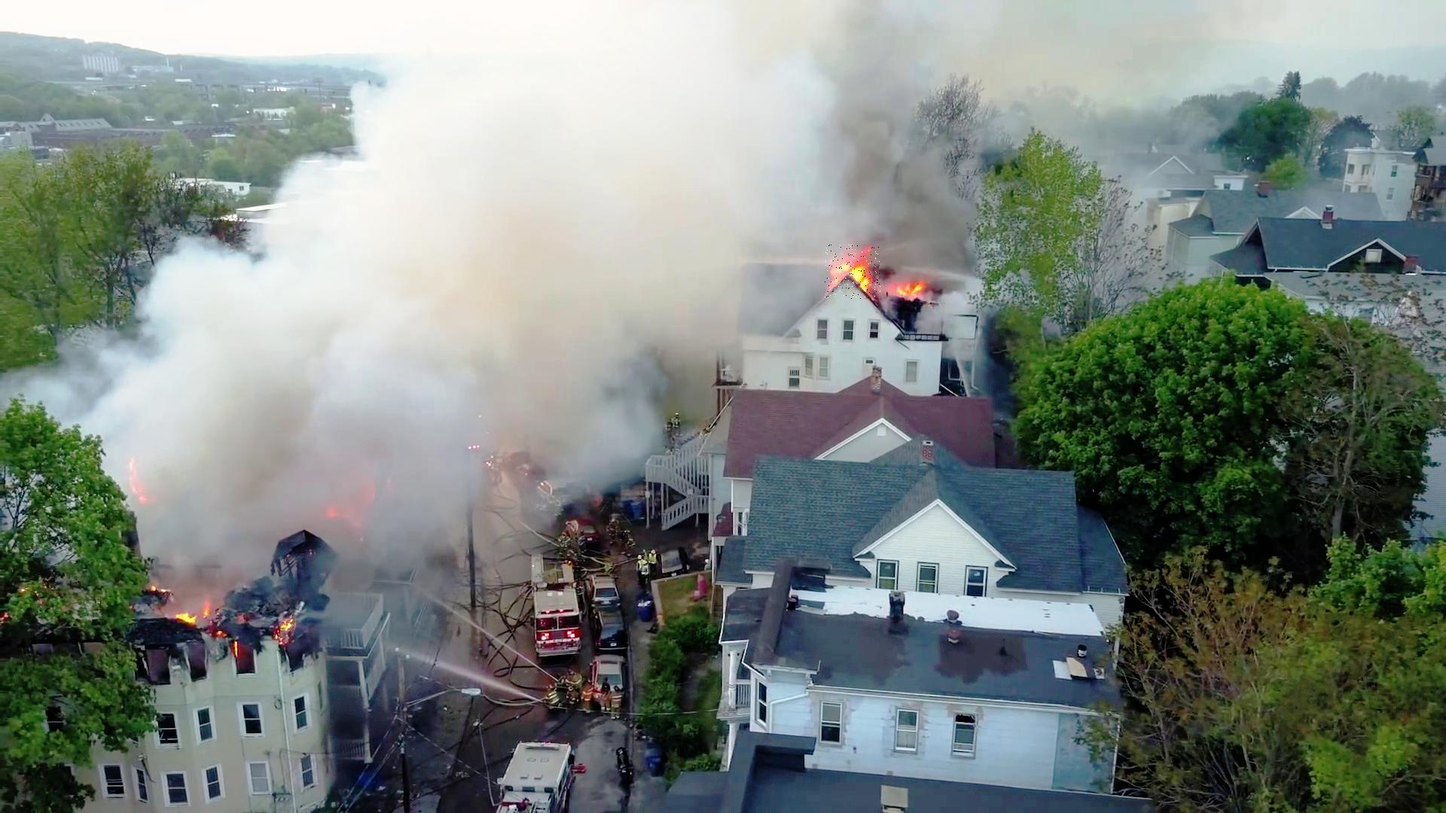fire: (825, 245, 881, 299)
